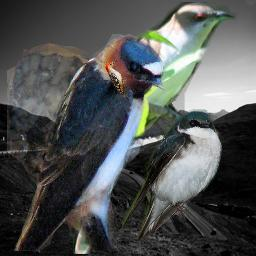Cuckoo: (73, 2, 238, 254)
Swallow: (7, 34, 165, 251), (122, 106, 225, 243)
Woodpecker: (105, 60, 130, 102)
